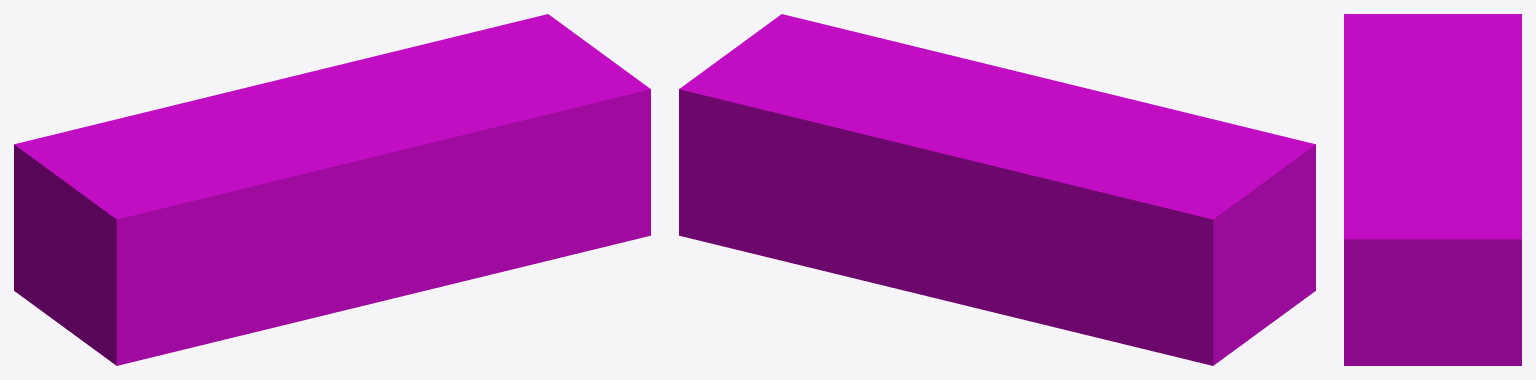
Rendered from PRP_Water_Trough_A.glb.
3 views of the same model, side by side, from view 1: azimuth 30°, elevation 25°; view 2: azimuth 150°, elevation 25°; view 3: azimuth 270°, elevation 25° (orthographic). The views are drawn at different scales.
Visible parts, largest first — view 1: COL_Trough; view 2: COL_Trough; view 3: COL_Trough.
Boxes of the visible parts, x1,y1,x2,y2 form: COL_Trough: [14, 14, 650, 365]; COL_Trough: [679, 14, 1315, 365]; COL_Trough: [1344, 14, 1521, 365].
Size of the model in its own units: 2.1 by 0.55 by 0.7.
